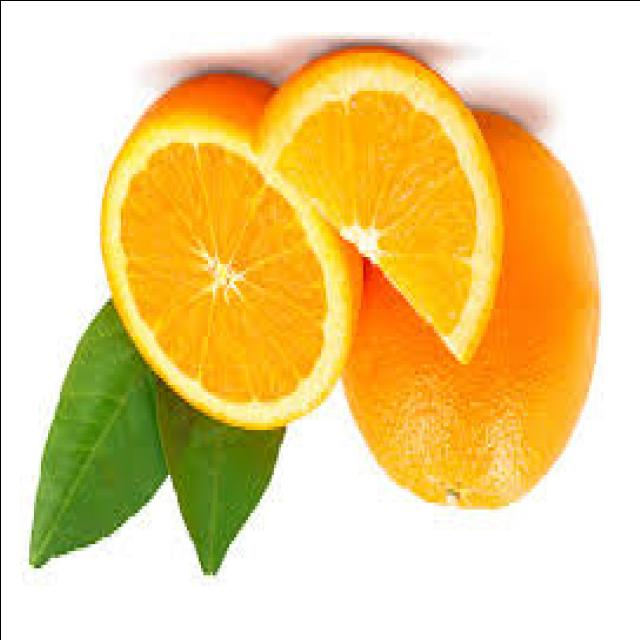orange: (348, 123, 600, 528)
